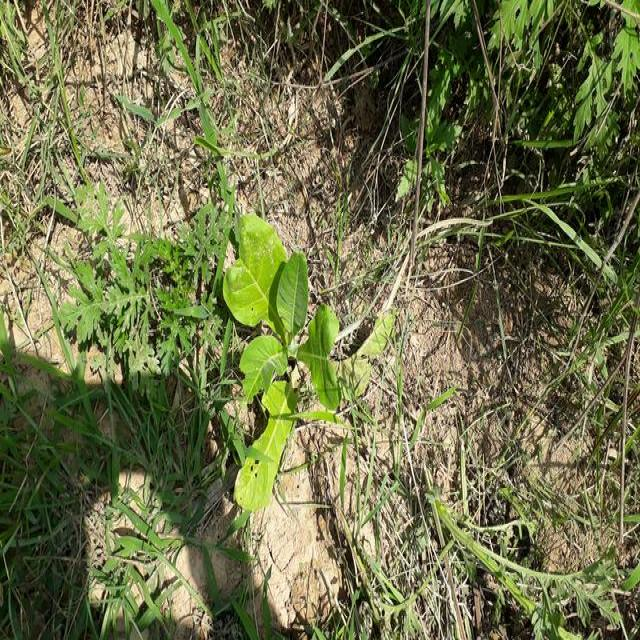crop: (230, 212, 346, 514)
